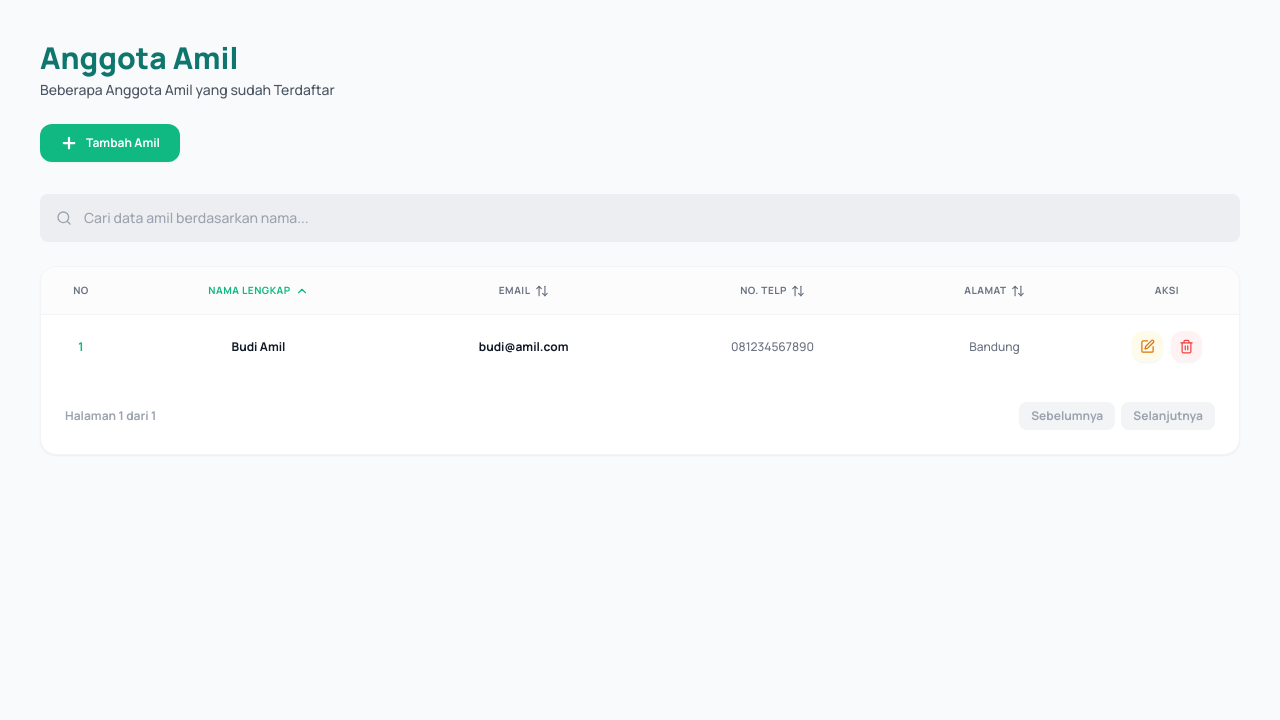
Test: Halaman AnggotaAmil (integration) › validasi terintegrasi: simpan form kosong menampilkan error & tidak memanggil service
The width and height of the screenshot is (1280, 720).
Expected: the text "Budi Amil" is shown, [121,314,396,378]
Click the button "Tambah Amil" at (110, 143), box [40,124,180,162]
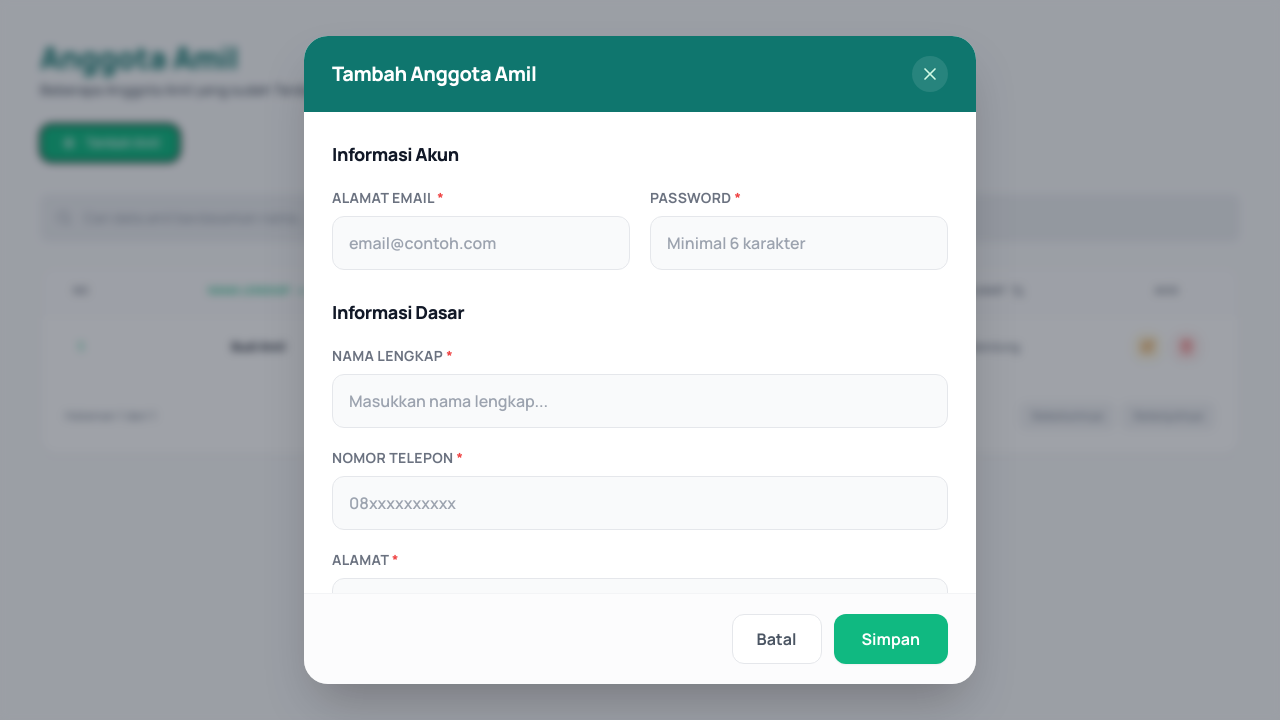
Click the button "Simpan" at (891, 639), box [834,614,948,664]
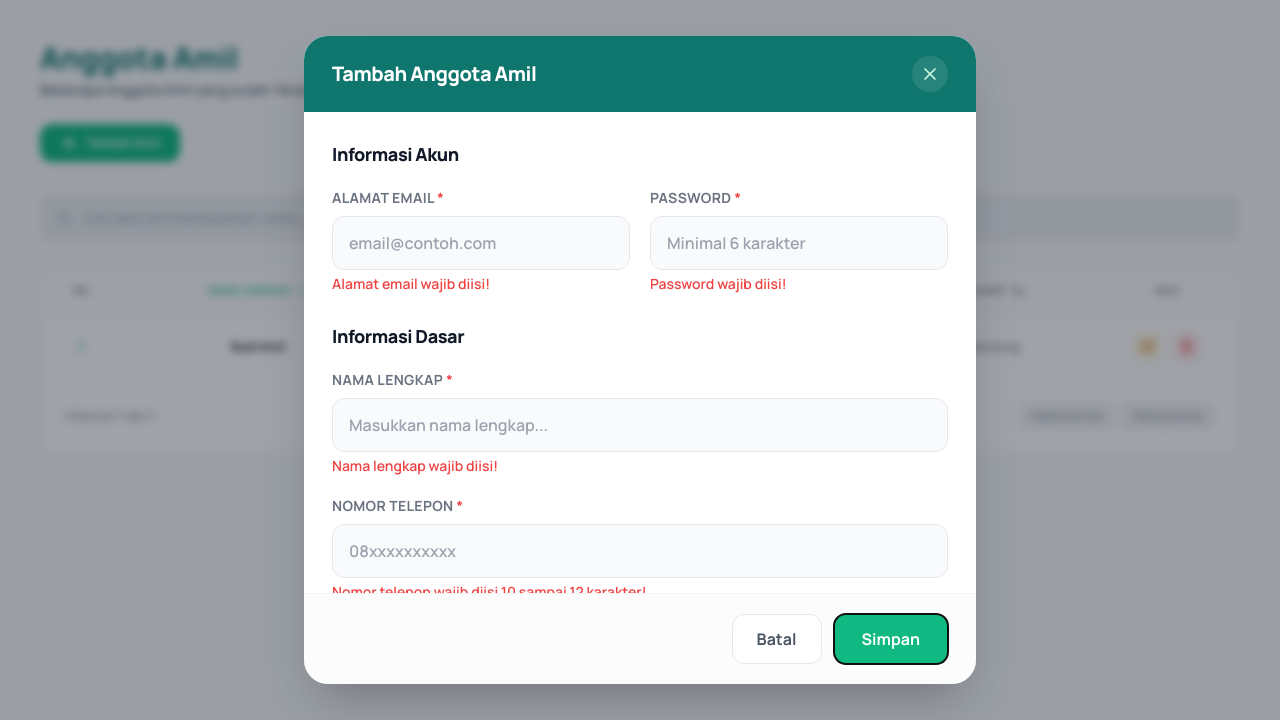
Now the text "Nama lengkap wajib diisi!" is shown, box [332,456,498,475]
